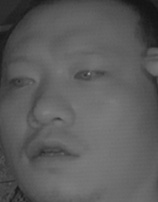eye: (72, 63, 107, 86), (7, 69, 37, 91)
mouth: (22, 135, 83, 170)
